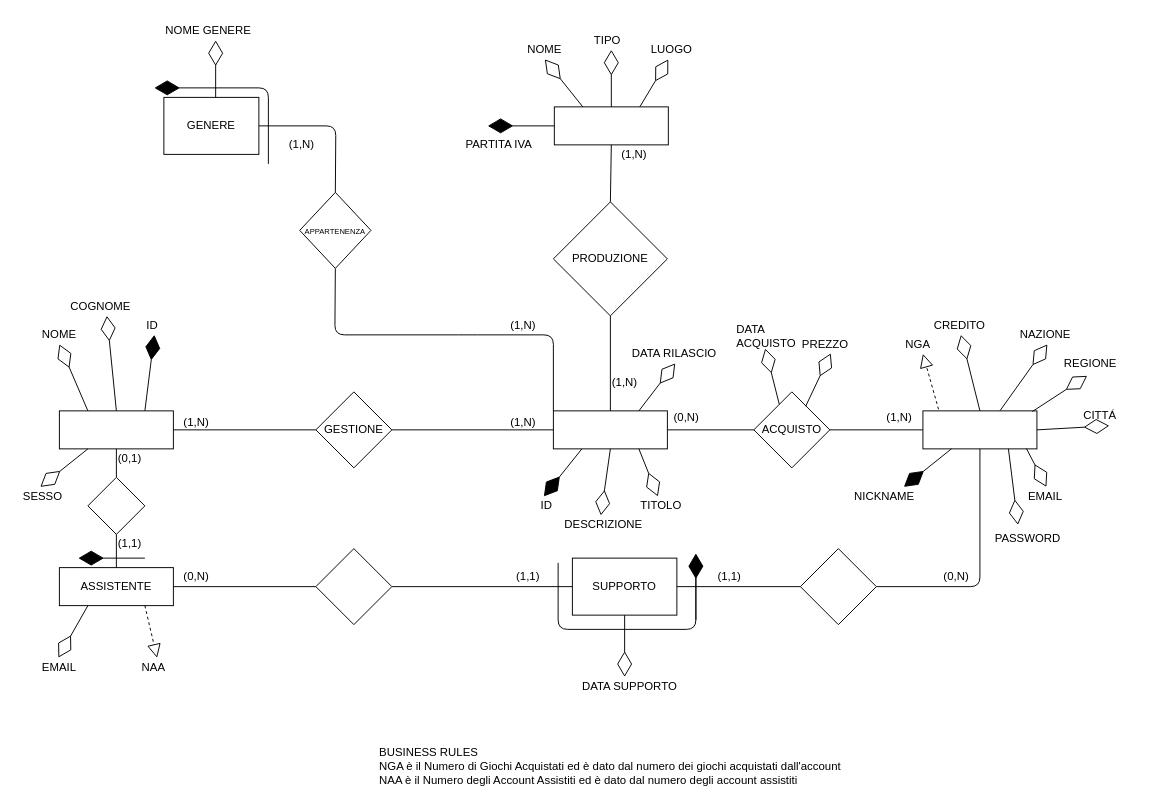
Image size: 1151x804. Some labels were removed from this diagram. Here are the shapes that lost their labels. From the top down, the box of each, then its label:
(553, 106, 668, 145): AZIENDA
(58, 410, 173, 449): DIPENDENTE
(552, 410, 667, 449): GIOCO
(922, 410, 1037, 449): ACCOUNT
